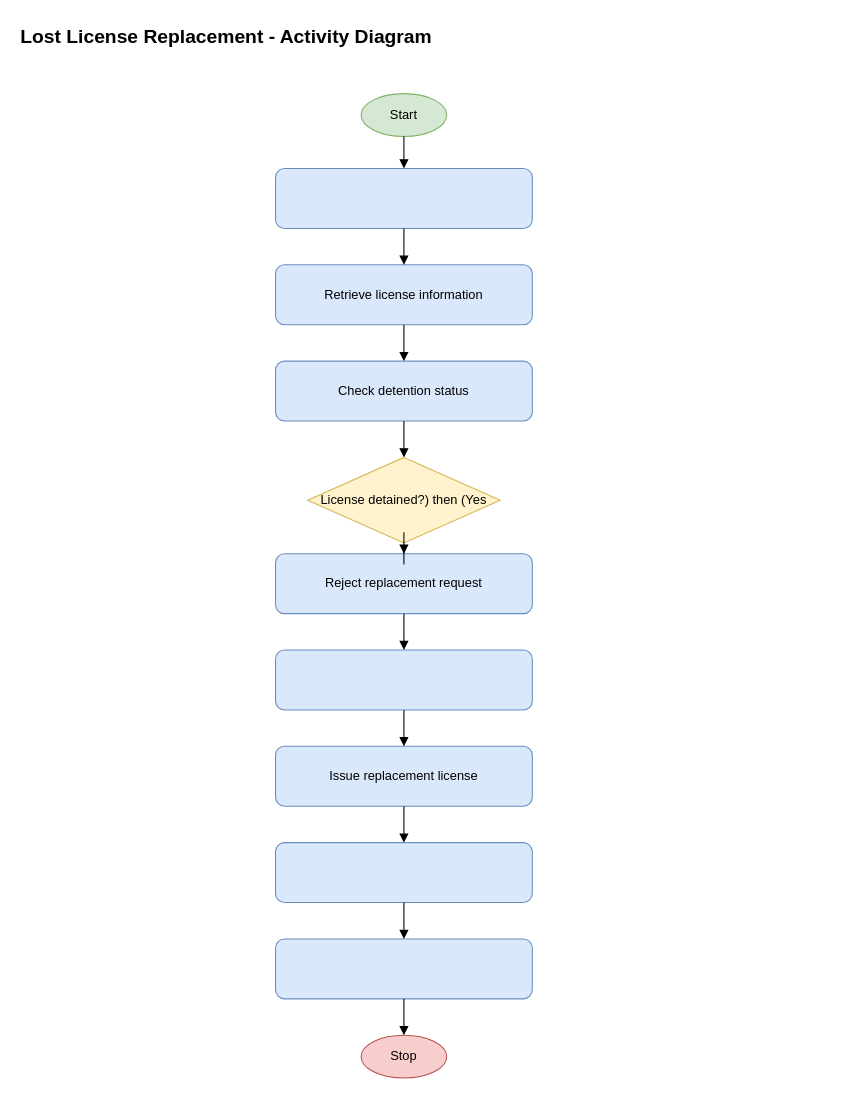
Image size: 850x1097. Some labels were removed from this diagram. Here are the shapes that lost their labels. From the top down, the centre of each, then its label:
At (x=403, y=197): "Enter license number".
At (x=403, y=679): "Pay replacement fee".
At (x=403, y=872): "Save replacement record".
At (x=403, y=968): "Display confirmation".
